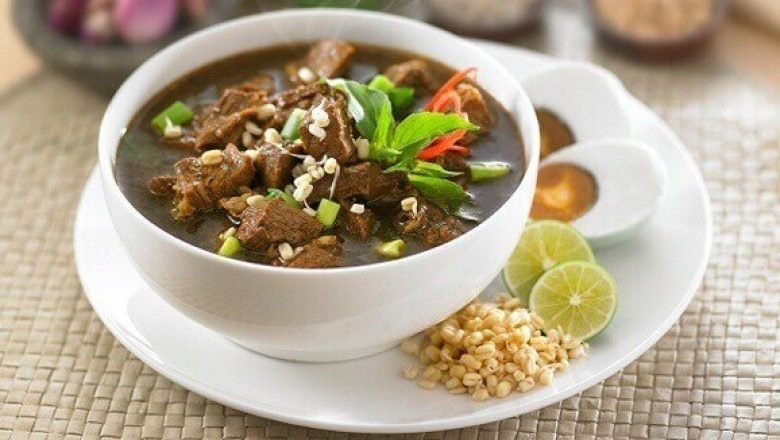rawon: (104, 54, 515, 257)
